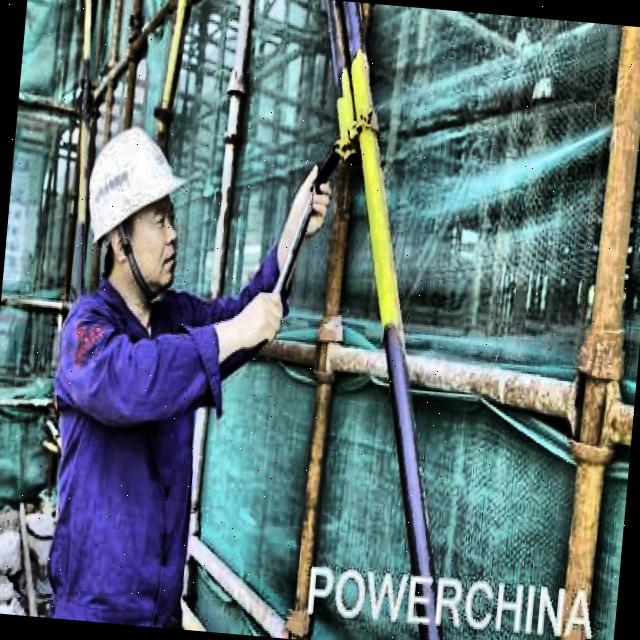helmet: (70, 105, 204, 315)
